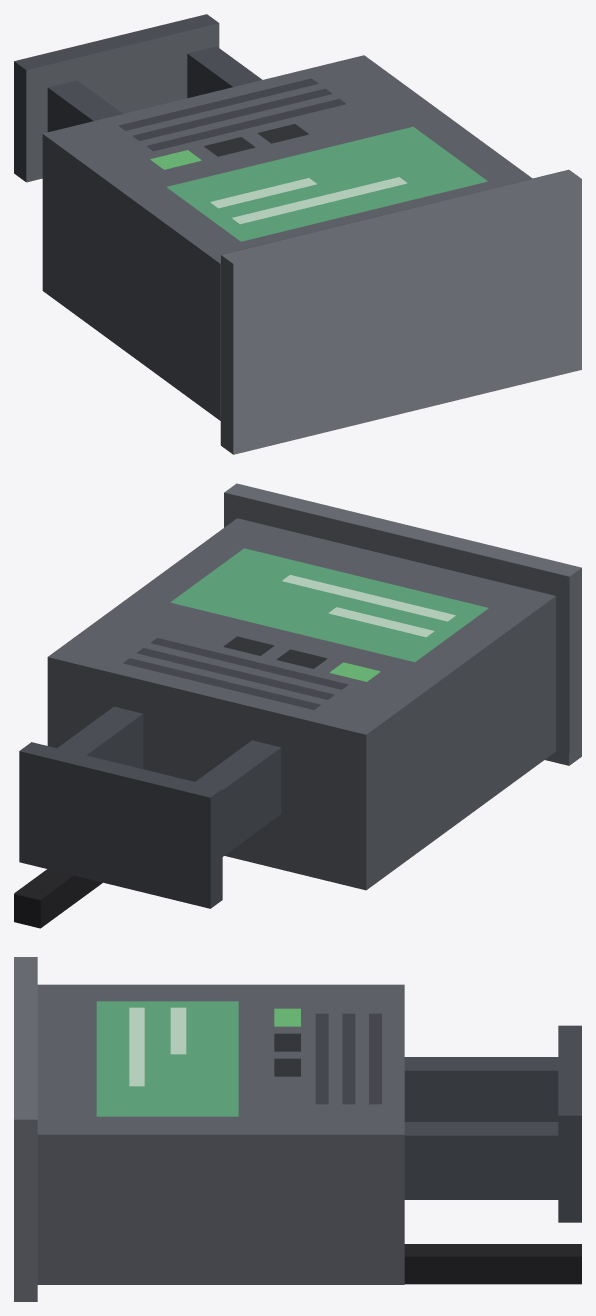
Rendered from controller_ground_basic_on_S.obj.
The picture shows the model from 3 angles, top to bottom: view 1: azimuth 30°, elevation 25°; view 2: azimuth 150°, elevation 25°; view 3: azimuth 270°, elevation 25°; orthographic projection. The views are drawn at different scales.
Parts seen in each view (by area): view 1: controller_ground_basic_on_S; view 2: controller_ground_basic_on_S; view 3: controller_ground_basic_on_S.
Part boxes in pixels (x1,y1,x2,y2): controller_ground_basic_on_S: (14, 14, 581, 454); controller_ground_basic_on_S: (14, 483, 581, 928); controller_ground_basic_on_S: (14, 957, 581, 1301).
Bounding box in the file's own units: 0.65 × 0.37 × 0.96.
1 material, 1 textured.
